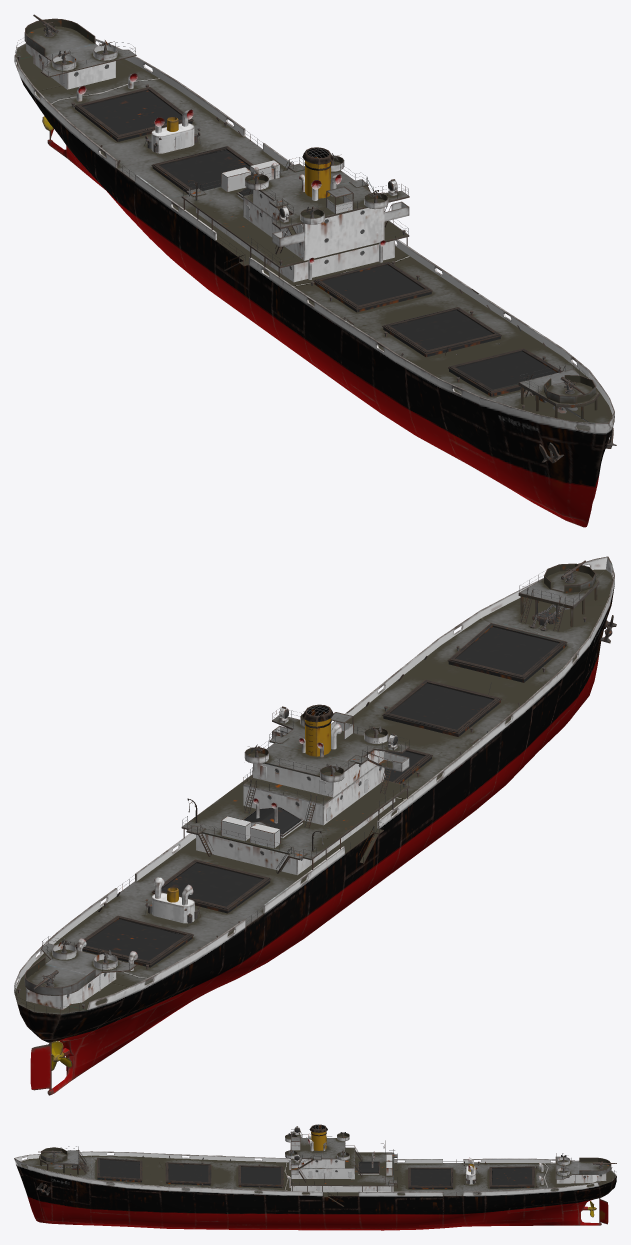
The model's file is liberty_ship.fbx.
The picture shows the model from 3 angles, top to bottom: view 1: azimuth 30°, elevation 25°; view 2: azimuth 150°, elevation 25°; view 3: azimuth 270°, elevation 25°; orthographic projection. The views are drawn at different scales.
Parts seen in each view (by area): view 1: liberty_ship; view 2: liberty_ship; view 3: liberty_ship.
Part boxes in pixels (box(x1,y1,x2,y2)): liberty_ship: box(14, 14, 616, 527); liberty_ship: box(14, 556, 616, 1095); liberty_ship: box(14, 1124, 616, 1230).
Size of the model in its own units: 9.33 by 12.02 by 66.11.
Materials: 1 (1 with a texture image).
